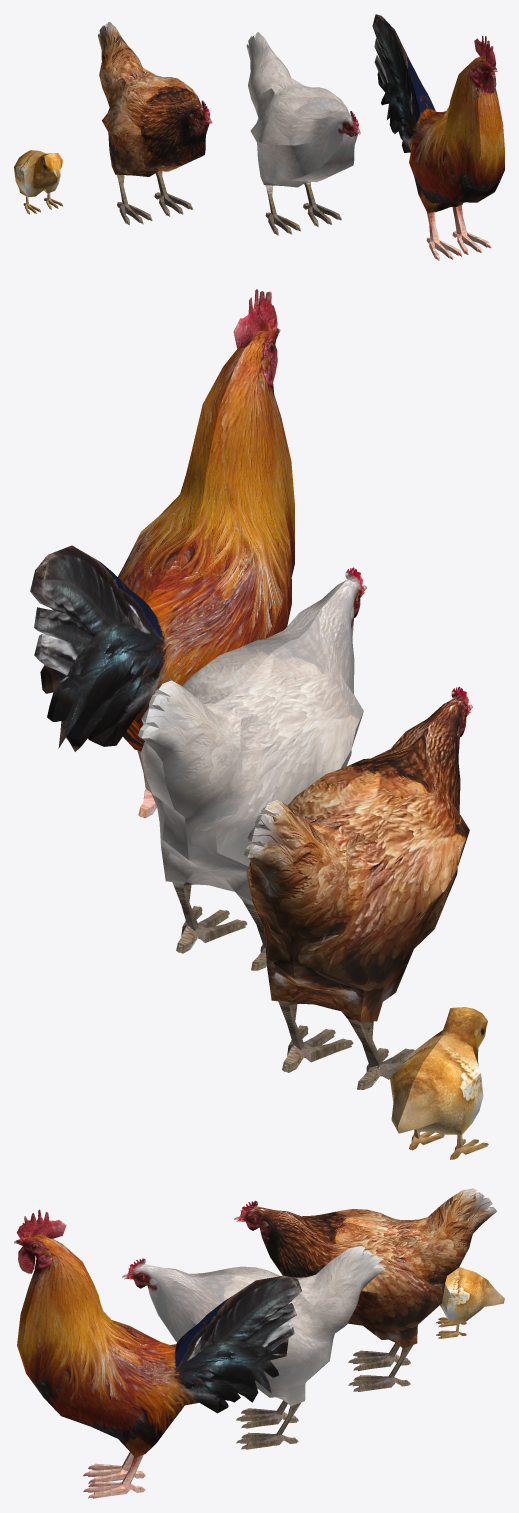
The model's file is uploads_files_4517714_Chickens+.fbx.
3 views of the same model, one above another, from view 1: azimuth 30°, elevation 25°; view 2: azimuth 150°, elevation 25°; view 3: azimuth 270°, elevation 25° (orthographic). The views are drawn at different scales.
Parts seen in each view (by area): view 1: Chicken; view 2: Chicken; view 3: Chicken.
Part boxes in pixels (x1,y1,x2,y2): Chicken: (14, 14, 504, 260); Chicken: (30, 289, 488, 1159); Chicken: (14, 1188, 504, 1498).
Size of the model in its own units: 2.24 by 1.55 by 2.5.
Materials: 4 (4 with a texture image).
